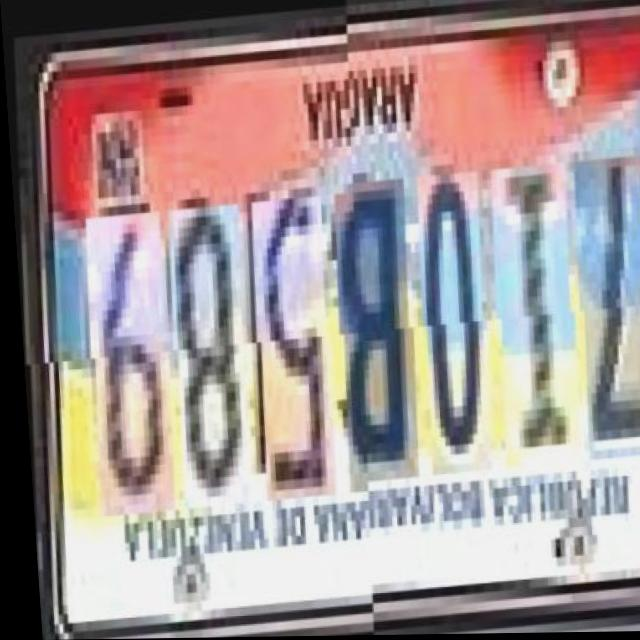5: (237, 180, 331, 485)
7: (561, 156, 640, 461)
8: (155, 187, 248, 492)
9: (72, 194, 169, 499)
b: (321, 174, 414, 479)
i: (478, 163, 575, 468)
o: (404, 170, 488, 473)
